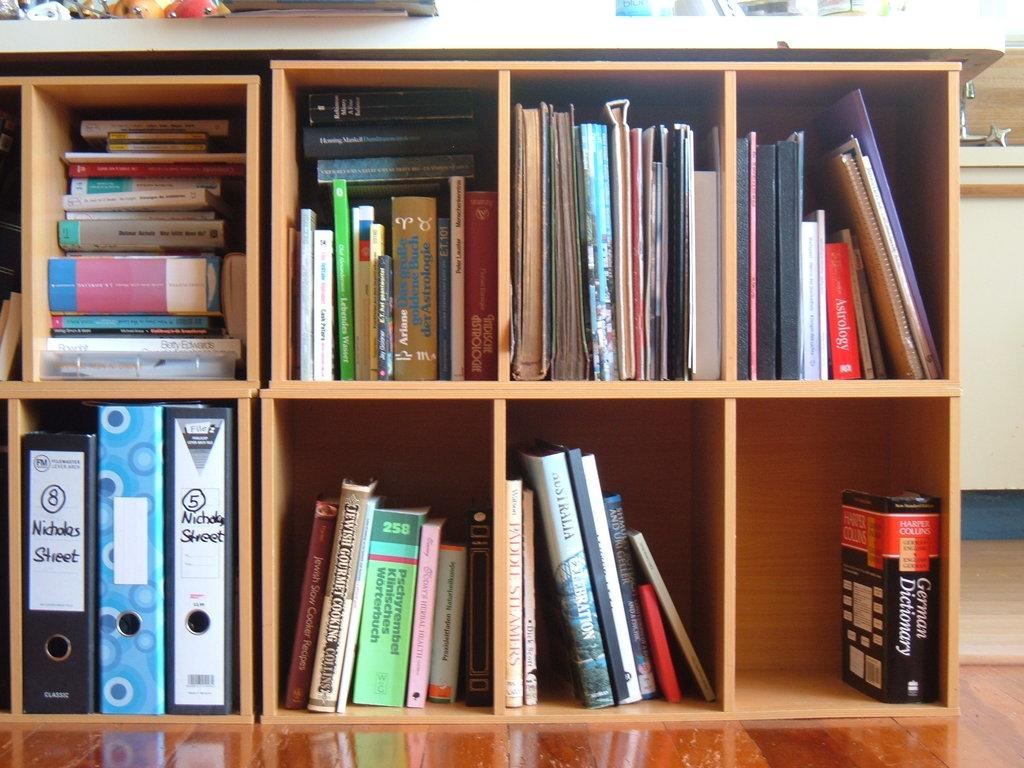Book: (839, 487, 941, 703)
